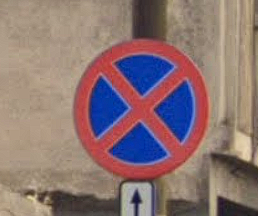oprirea_interzisa: (73, 36, 213, 181)
